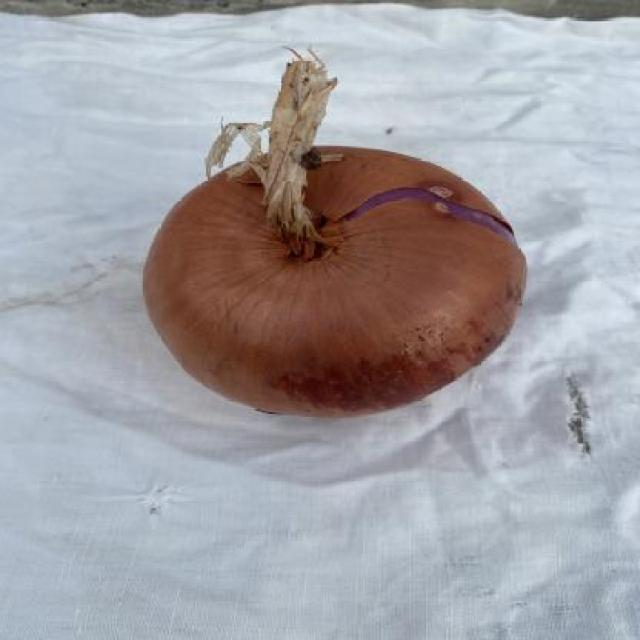Onion: (143, 51, 528, 418)
